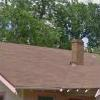Chimney: (62, 33, 91, 75)
